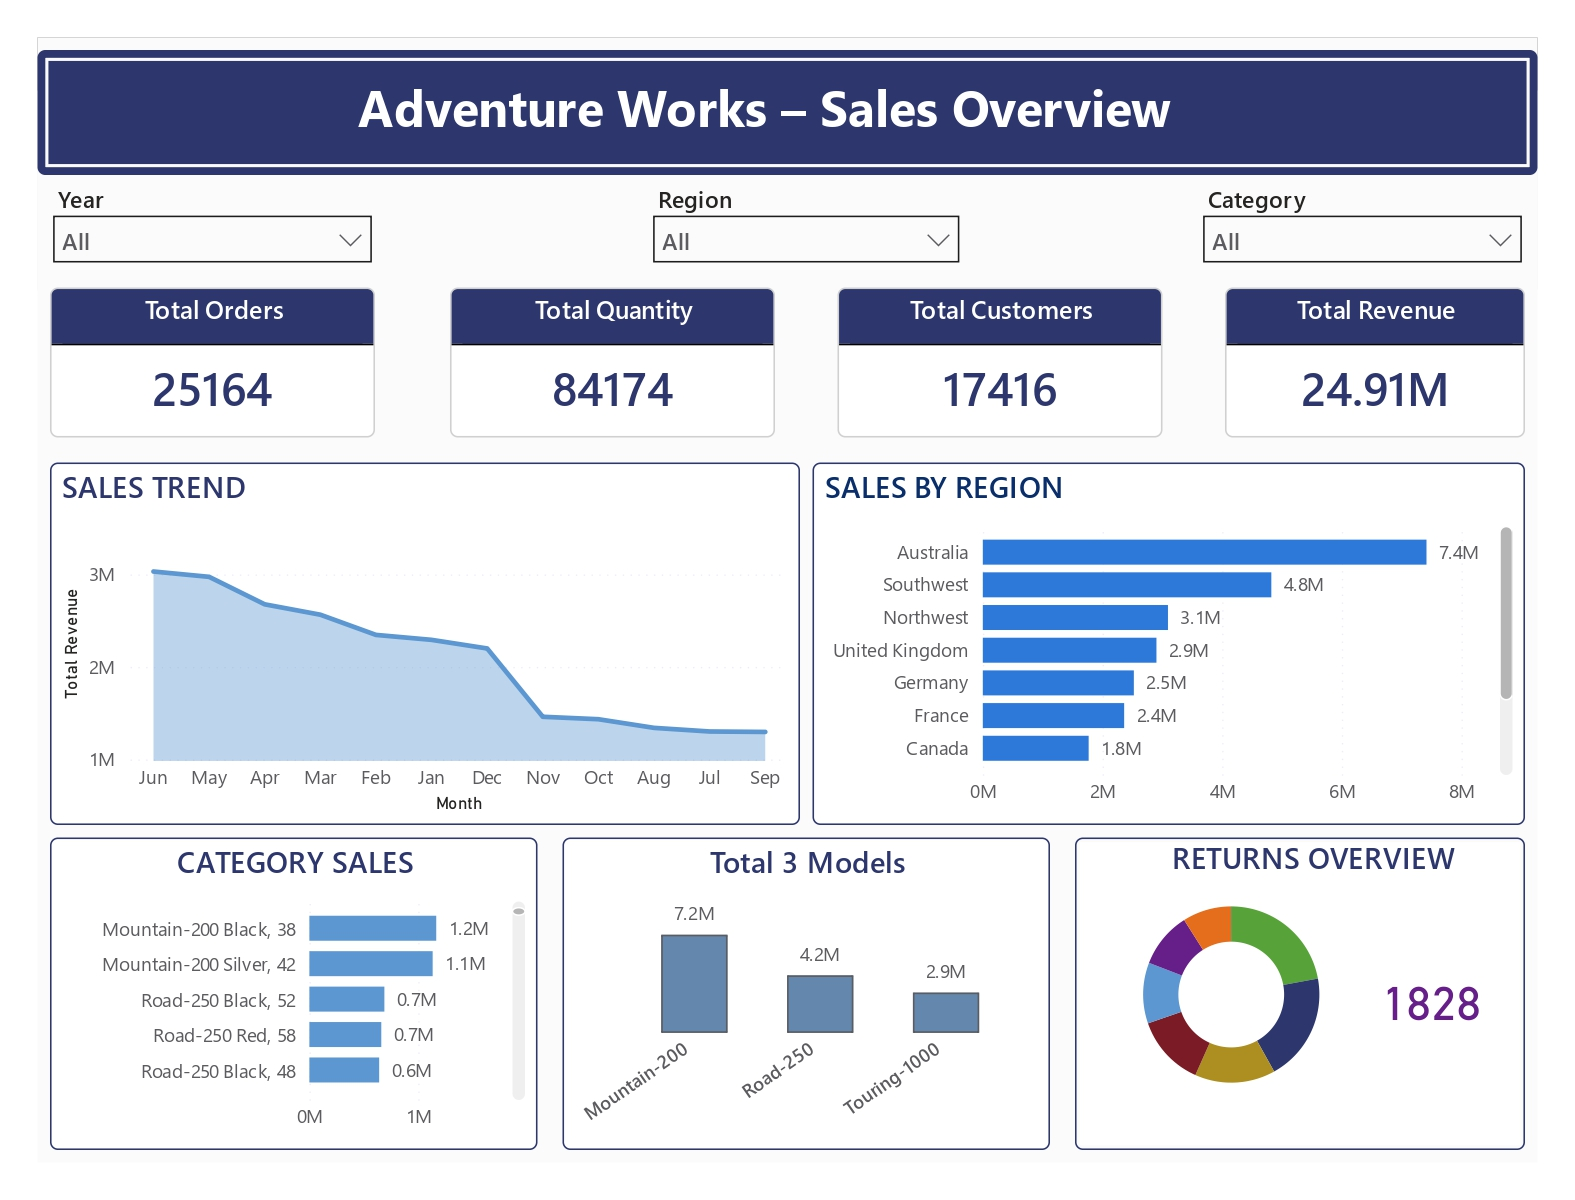

The page's visual inventory and layout, read from the dashboard file:
{"tool":"powerbi","page":{"name":"Sales Overview","canvas":[960,720],"ordinal":0},"visuals":[{"type":"shape","box":[664,512,288,200],"z":0},{"type":"shape","box":[0,8,960,80],"z":1000},{"type":"textbox","box":[200,16,560,72],"z":2000},{"type":"card","title":"Total Revenue","fields":{"Values":["dim_customer.Total Revenue"]},"box":[760,160,192,96],"z":3000},{"type":"card","title":"Total Quantity","fields":{"Values":["dim_customer.Total Quantity"]},"box":[264,160,208,96],"z":4000},{"type":"card","title":"Total Orders","fields":{"Values":["dim_customer.Total Orders"]},"box":[8,160,208,96],"z":5000},{"type":"card","title":"Total Customers","fields":{"Values":["dim_customer.Total Customers"]},"box":[512,160,208,96],"z":6000},{"type":"slicer","fields":{"Values":["fact_sales.Year"]},"box":[0,104,224,48],"z":7000},{"type":"textbox","box":[8,88,40,32],"z":8000},{"type":"slicer","fields":{"Values":["dim_territory.region"]},"box":[384,104,216,48],"z":9000},{"type":"slicer","fields":{"Values":["dim_product.ProductName"]},"box":[736,104,224,48],"z":10000},{"type":"textbox","box":[392,88,64,32],"z":11000},{"type":"textbox","box":[744,88,80,32],"z":12000},{"type":"areaChart","title":"SALES TREND","fields":{"Category":["fact_sales.Month"],"Y":["dim_customer.Total Revenue"]},"box":[8,272,480,232],"z":13000},{"type":"barChart","title":"SALES BY REGION","fields":{"Category":["dim_territory.region"],"Y":["dim_customer.Total Revenue"]},"box":[496,272,456,232],"z":14000},{"type":"clusteredBarChart","title":"CATEGORY SALES","fields":{"Category":["dim_product.ProductName"],"Y":["dim_customer.Total Revenue"]},"box":[8,512,312,200],"z":15000},{"type":"donutChart","title":"RETURNS OVERVIEW","fields":{"Y":["dim_customer.Total Returns"],"Category":["dim_territory.region"]},"box":[616,512,296,176],"z":16000},{"type":"card","fields":{"Values":["dim_customer.Total Returns"]},"box":[840,576,104,80],"z":17000},{"type":"clusteredColumnChart","title":"Total 3 Models","fields":{"Category":["dim_product.ModelName"],"Y":["dim_customer.Total Revenue"]},"box":[336,512,312,200],"z":18000}]}

Visuals, with their boxes in screenshot pixels (x1, y1, x2, y2):
shape: <box>1075,838,1525,1150</box>
shape: <box>38,50,1538,175</box>
textbox: <box>350,62,1225,175</box>
"Total Revenue" card: <box>1225,288,1525,438</box>
"Total Quantity" card: <box>450,288,775,438</box>
"Total Orders" card: <box>50,288,375,438</box>
"Total Customers" card: <box>838,288,1162,438</box>
slicer - fact_sales.Year: <box>38,200,388,275</box>
textbox: <box>50,175,112,225</box>
slicer - dim_territory.region: <box>638,200,975,275</box>
slicer - dim_product.ProductName: <box>1188,200,1538,275</box>
textbox: <box>650,175,750,225</box>
textbox: <box>1200,175,1325,225</box>
"SALES TREND" areaChart: <box>50,462,800,825</box>
"SALES BY REGION" barChart: <box>812,462,1525,825</box>
"CATEGORY SALES" clusteredBarChart: <box>50,838,538,1150</box>
"RETURNS OVERVIEW" donutChart: <box>1000,838,1462,1112</box>
card - dim_customer.Total Returns: <box>1350,938,1512,1062</box>
"Total 3 Models" clusteredColumnChart: <box>562,838,1050,1150</box>
